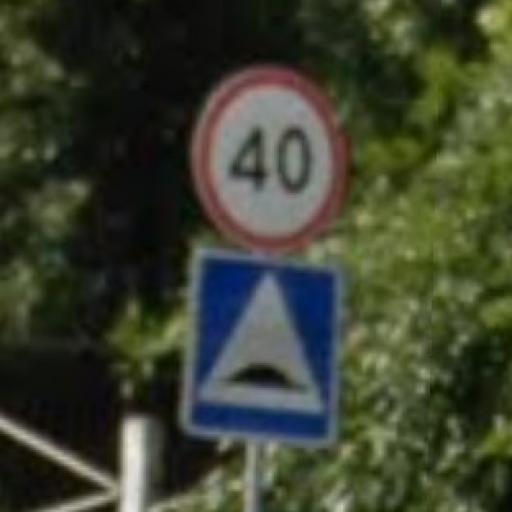traffic_sign: (182, 249, 346, 449), (192, 67, 351, 256)
